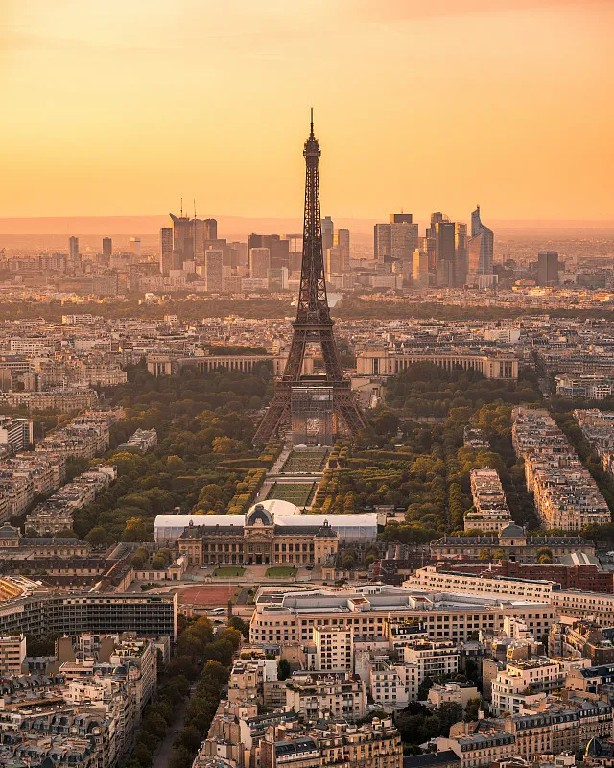Eiffel: (250, 107, 369, 452)
